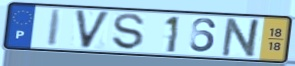1: (164, 15, 182, 54)
6: (189, 17, 218, 55)
I: (45, 8, 65, 48)
N: (219, 17, 265, 59)
S: (111, 12, 147, 52)
V: (73, 9, 113, 51)
